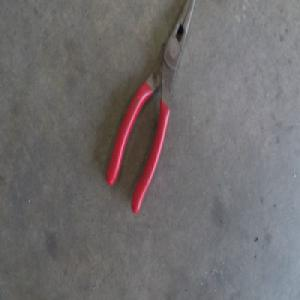Pliers: (105, 0, 194, 213)
